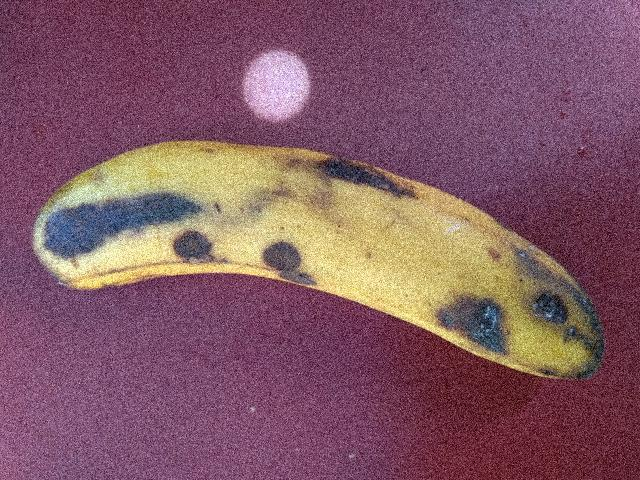overripe: (28, 120, 637, 424)
